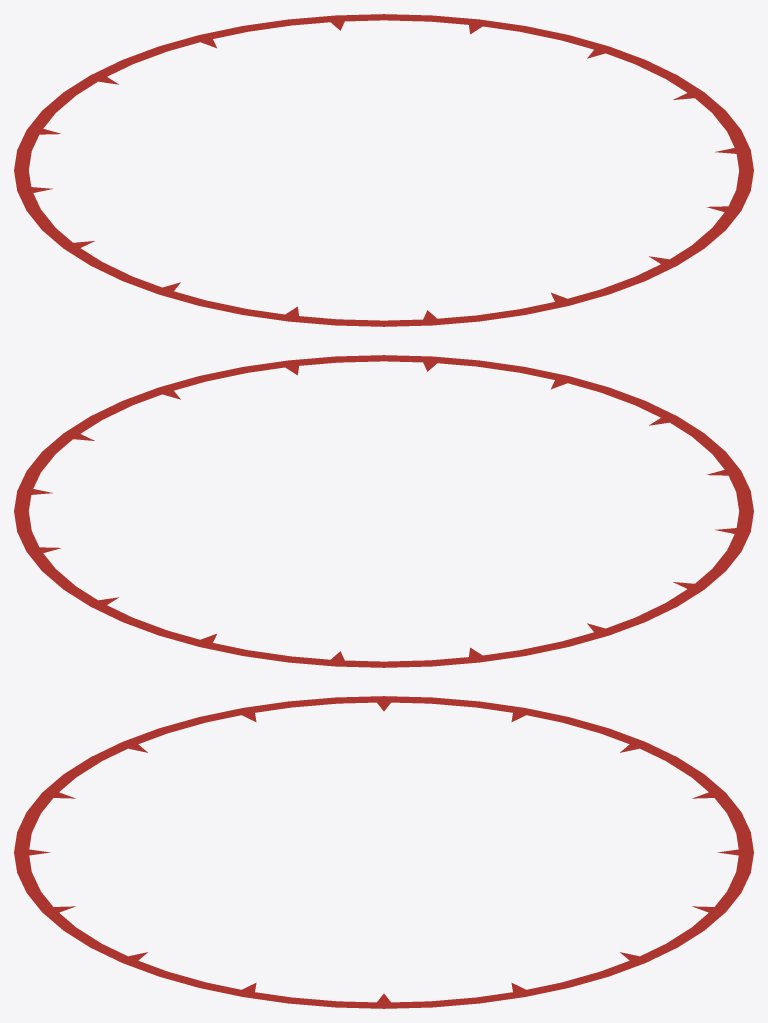
File: hunger_ring.glb
3 renders of one model, top to bottom at view 1: azimuth 30°, elevation 25°; view 2: azimuth 150°, elevation 25°; view 3: azimuth 270°, elevation 25°, orthographic.
Parts seen in each view (by area): view 1: hunger_ring; view 2: hunger_ring; view 3: hunger_ring.
Boxes of the visible parts, bbox=[...] form: hunger_ring: bbox=[14, 14, 753, 326]; hunger_ring: bbox=[14, 355, 753, 667]; hunger_ring: bbox=[14, 696, 753, 1008].
Bounding box in the file's own units: 2 × 0 × 2.
Materials: 1 (1 with a texture image).
